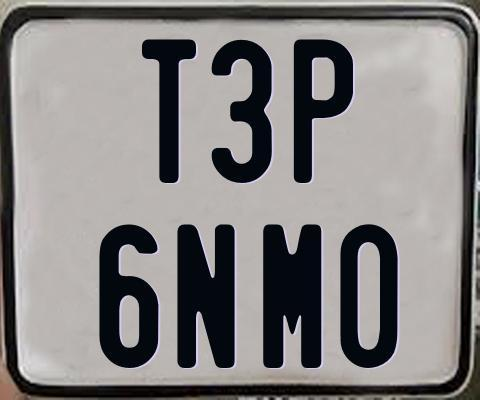0: (338, 221, 397, 370)
3: (209, 38, 271, 182)
6: (96, 222, 155, 370)
M: (261, 221, 324, 366)
N: (177, 221, 237, 370)
P: (294, 38, 359, 182)
T: (140, 37, 197, 183)
